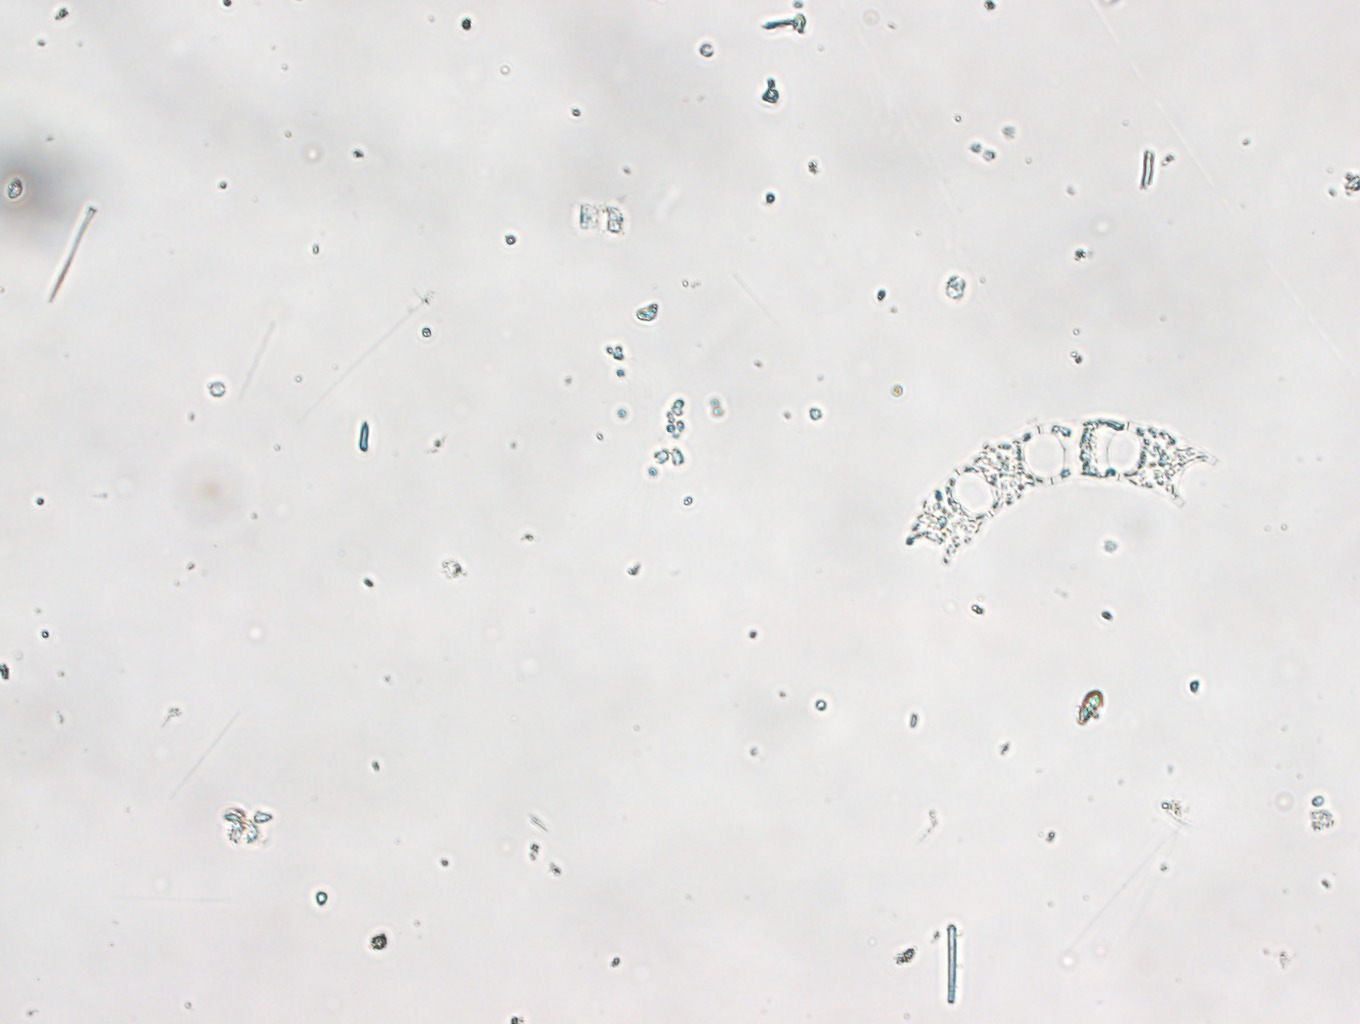eucampia: (904, 415, 1220, 566)
